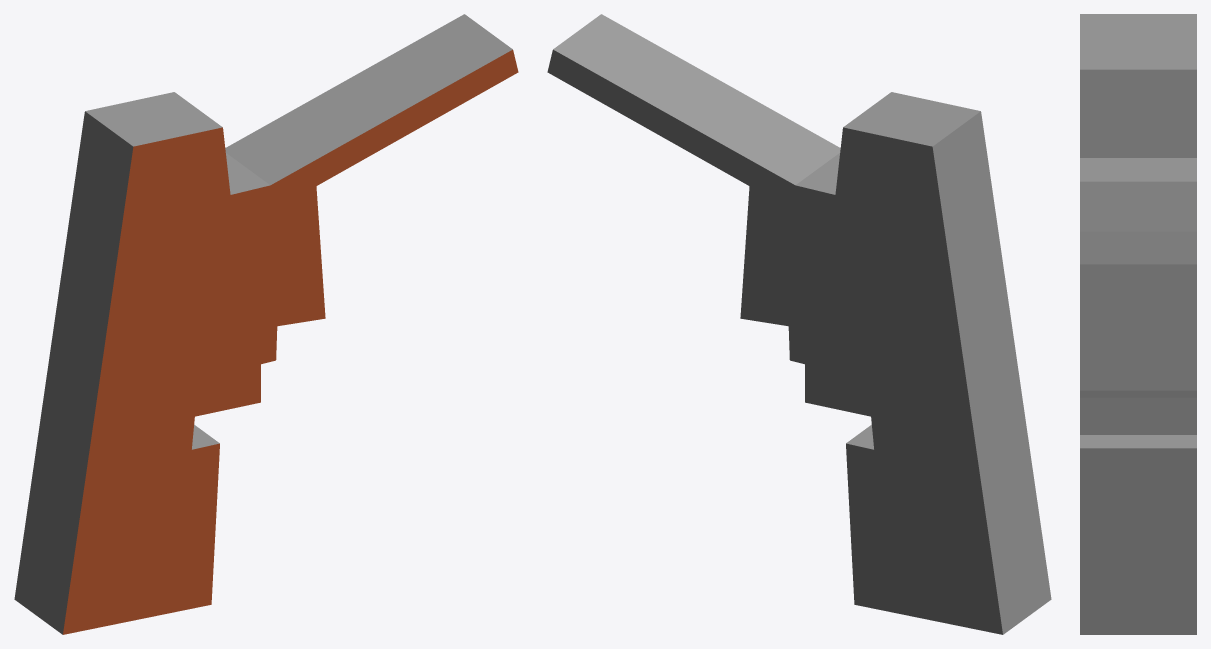
File: construction_3905_assumed_A_Casa_h6m.obj
3 views of the same model, side by side, from view 1: azimuth 30°, elevation 25°; view 2: azimuth 150°, elevation 25°; view 3: azimuth 270°, elevation 25° (orthographic). The views are drawn at different scales.
Visible parts, largest first — view 1: construction_3905_assumed_A_Casa; view 2: construction_3905_assumed_A_Casa; view 3: construction_3905_assumed_A_Casa.
Boxes of the visible parts, x1,y1,x2,y2 form: construction_3905_assumed_A_Casa: [14, 14, 518, 634]; construction_3905_assumed_A_Casa: [547, 14, 1051, 634]; construction_3905_assumed_A_Casa: [1080, 14, 1196, 634].
Size of the model in its own units: 32.56 by 32.89 by 6.
